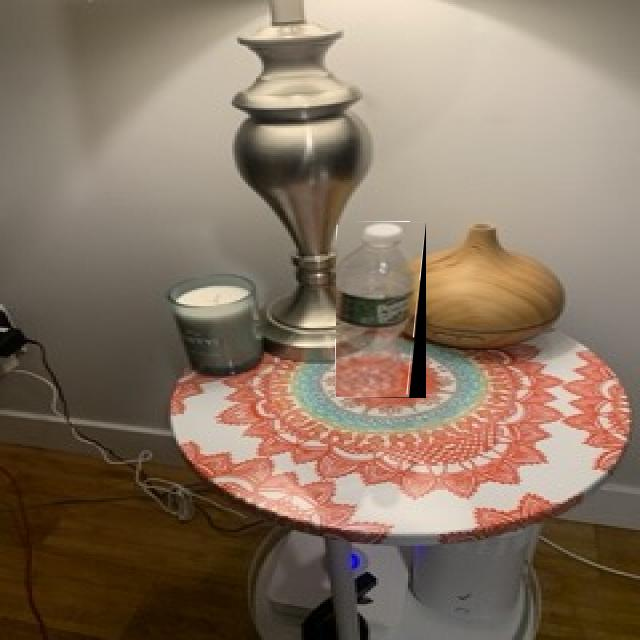water_bottle: (336, 222, 426, 398)
